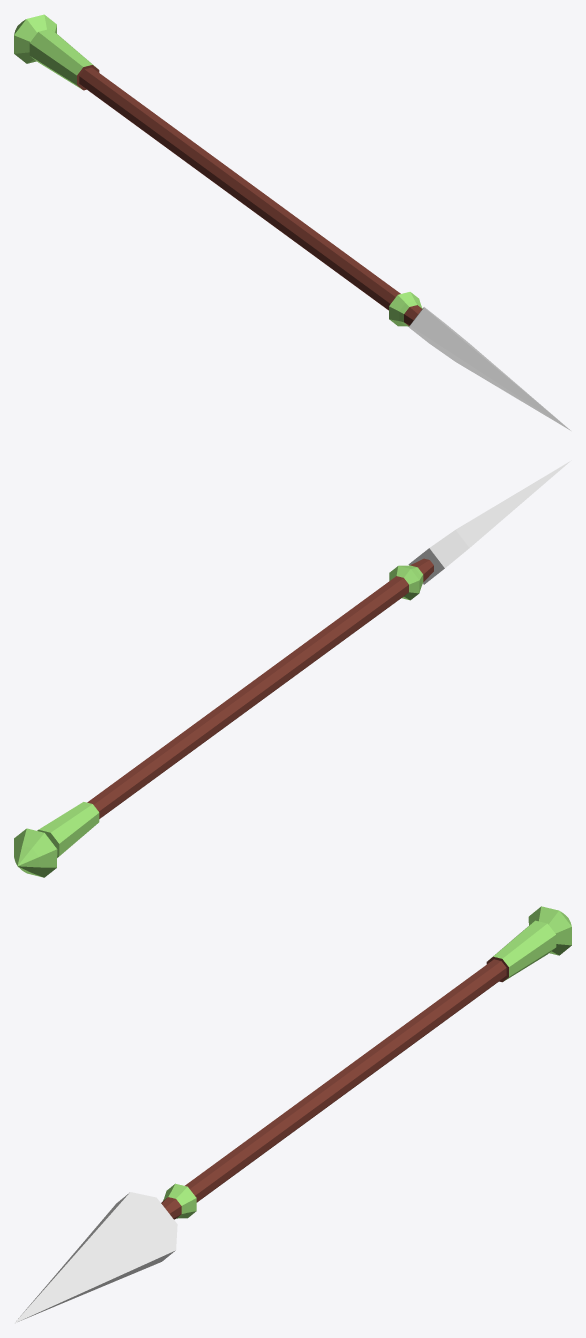
File: spear.fbx
3 views of the same model, one above another, from view 1: azimuth 30°, elevation 25°; view 2: azimuth 150°, elevation 25°; view 3: azimuth 330°, elevation 25° (orthographic).
Parts seen in each view (by area): view 1: Cube.001; view 2: Cube.001; view 3: Cube.001.
Boxes of the visible parts, x1,y1,x2,y2 form: Cube.001: (14, 14, 570, 430); Cube.001: (14, 460, 571, 877); Cube.001: (14, 906, 571, 1323).
Size of the model in its own units: 26.47 by 26.28 by 425.
